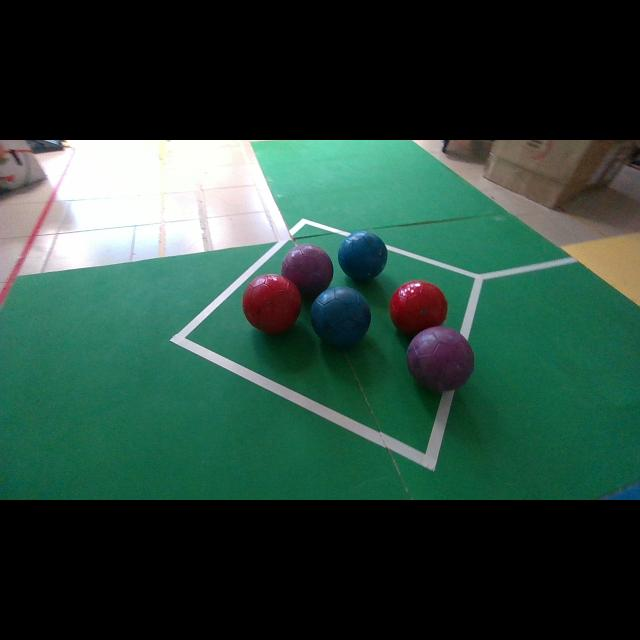B: (311, 286, 371, 348), (338, 230, 388, 281)
P: (408, 326, 474, 392), (281, 245, 334, 297)
R: (242, 274, 301, 334), (389, 280, 448, 337)
